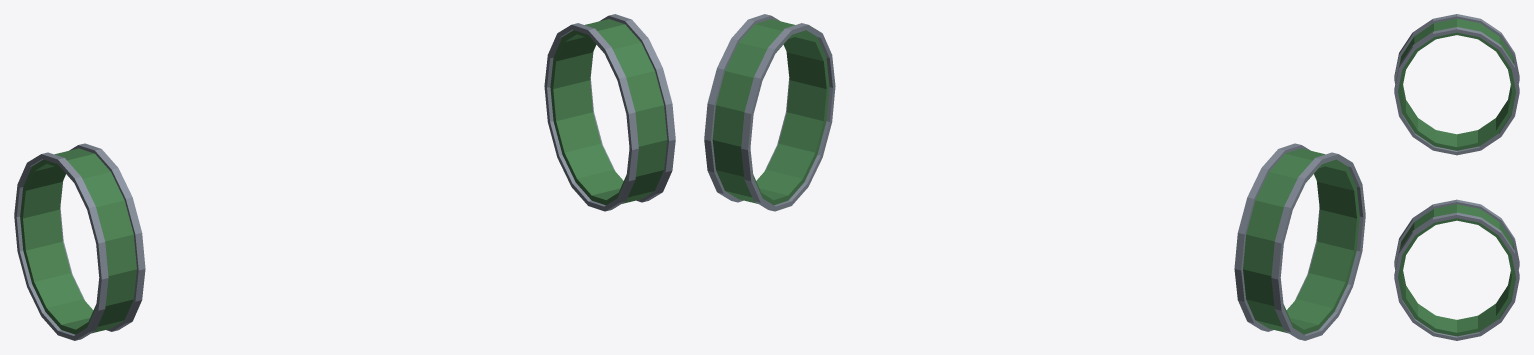
The model's file is armor_knight_arms_uncommon_human.glb.
The picture shows the model from 3 angles, left to right: view 1: azimuth 30°, elevation 25°; view 2: azimuth 150°, elevation 25°; view 3: azimuth 270°, elevation 25°; orthographic projection. The views are drawn at different scales.
Visible parts, largest first — view 1: armor_knight_arms_uncommon_human__lowerarm_l, armor_knight_arms_uncommon_human__lowerarm_r; view 2: armor_knight_arms_uncommon_human__lowerarm_l, armor_knight_arms_uncommon_human__lowerarm_r; view 3: armor_knight_arms_uncommon_human__lowerarm_l, armor_knight_arms_uncommon_human__lowerarm_r.
Boxes of the visible parts, x1=… form: armor_knight_arms_uncommon_human__lowerarm_l: x1=544, y1=14, x2=675, y2=211; armor_knight_arms_uncommon_human__lowerarm_r: x1=14, y1=143, x2=145, y2=340; armor_knight_arms_uncommon_human__lowerarm_l: x1=704, y1=14, x2=835, y2=211; armor_knight_arms_uncommon_human__lowerarm_r: x1=1234, y1=143, x2=1365, y2=340; armor_knight_arms_uncommon_human__lowerarm_l: x1=1394, y1=199, x2=1519, y2=340; armor_knight_arms_uncommon_human__lowerarm_r: x1=1394, y1=14, x2=1519, y2=155.
Bounding box in the file's own units: 118 × 34.4 × 31.07.
